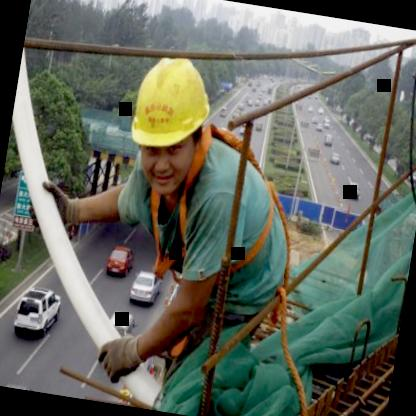helmet: (108, 36, 226, 206)
